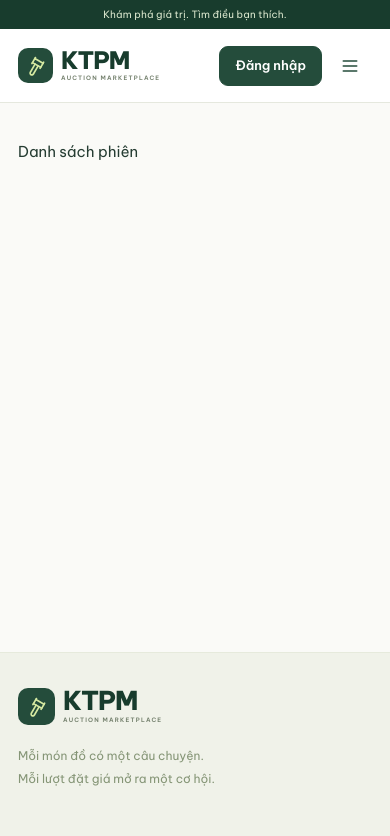
it: closes the mobile navigation with Escape
Click the button named "Mở menu": [350, 66] box x1=328 y1=44 x2=372 y2=88
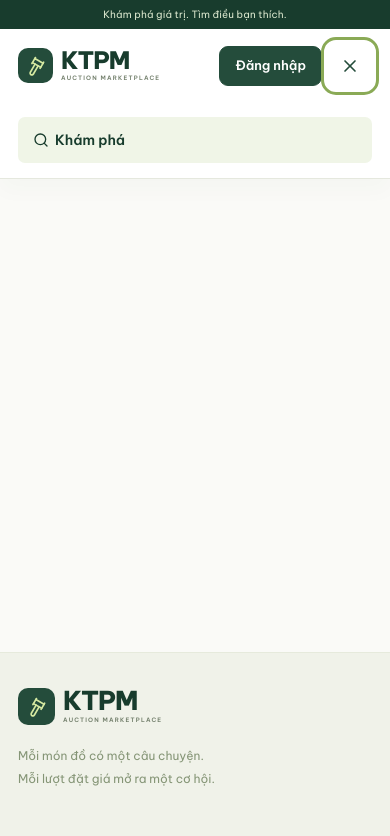
Result: the button named "Đóng menu" is expanded at x1=328 y1=44 x2=372 y2=88
Press Escape
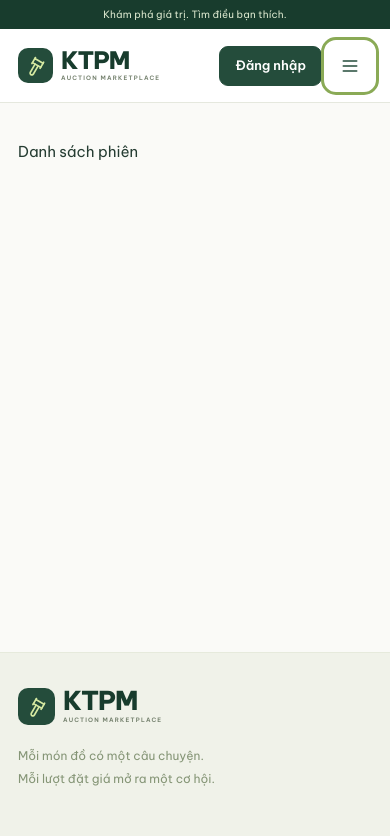
Result: the button named "Mở menu" is collapsed at x1=328 y1=44 x2=372 y2=88
